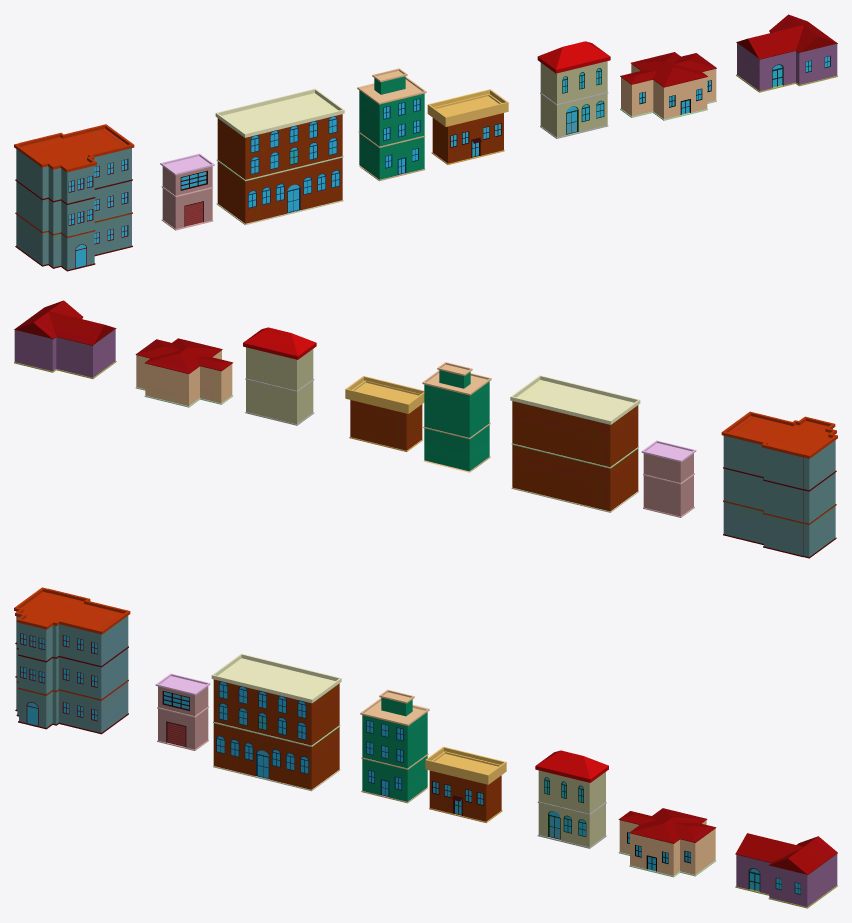
File: Predios.fbx
3 renders of one model, top to bottom at view 1: azimuth 30°, elevation 25°; view 2: azimuth 150°, elevation 25°; view 3: azimuth 330°, elevation 25°, orthographic.
Visible parts, largest first — view 1: building_001, building_003, building_004, building_006, building_008, building_007, building_005, building_002; view 2: building_003, building_001, building_004, building_006, building_008, building_007, building_005, building_002; view 3: building_003, building_001, building_004, building_006, building_008, building_007, building_005, building_002.
Part boxes in pixels (bbox=[...]): building_001: bbox=[14, 124, 134, 271]; building_003: bbox=[215, 88, 344, 225]; building_004: bbox=[357, 68, 426, 181]; building_006: bbox=[537, 41, 610, 138]; building_008: bbox=[736, 14, 837, 92]; building_007: bbox=[620, 52, 716, 120]; building_005: bbox=[427, 89, 508, 164]; building_002: bbox=[160, 153, 214, 230]; building_003: bbox=[510, 375, 640, 512]; building_001: bbox=[721, 411, 837, 558]; building_004: bbox=[422, 362, 491, 472]; building_006: bbox=[243, 327, 316, 425]; building_008: bbox=[14, 300, 116, 378]; building_007: bbox=[135, 338, 233, 407]; building_005: bbox=[345, 376, 424, 451]; building_002: bbox=[641, 440, 696, 517]; building_003: bbox=[211, 653, 341, 791]; building_001: bbox=[14, 587, 130, 734]; building_004: bbox=[360, 689, 429, 803]; building_006: bbox=[535, 750, 608, 848]; building_008: bbox=[735, 833, 837, 908]; building_007: bbox=[618, 808, 716, 877]; building_005: bbox=[425, 746, 506, 823]; building_002: bbox=[155, 673, 210, 750].
Bounding box in the file's own units: 15475 × 2000 × 1330.
